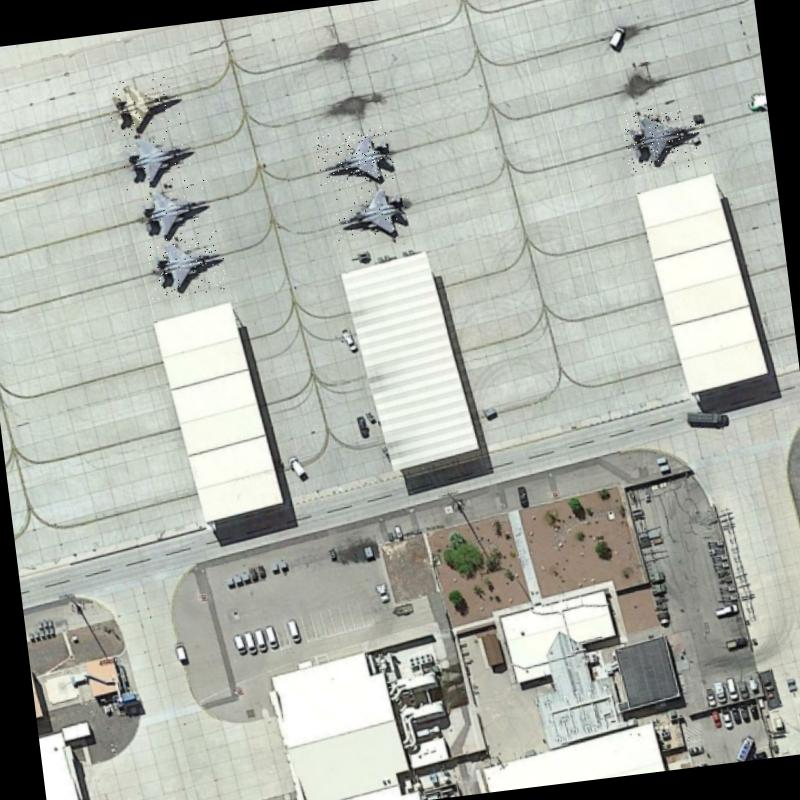A13: (620, 102, 706, 174), (144, 228, 228, 300), (330, 180, 413, 246), (314, 125, 397, 189), (106, 74, 182, 139), (135, 178, 213, 241), (120, 131, 195, 190)
